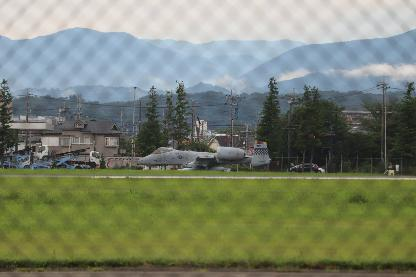A10: (137, 140, 271, 170)
